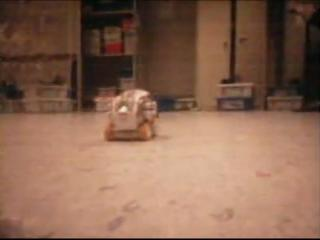cozmo: (102, 88, 159, 141)
